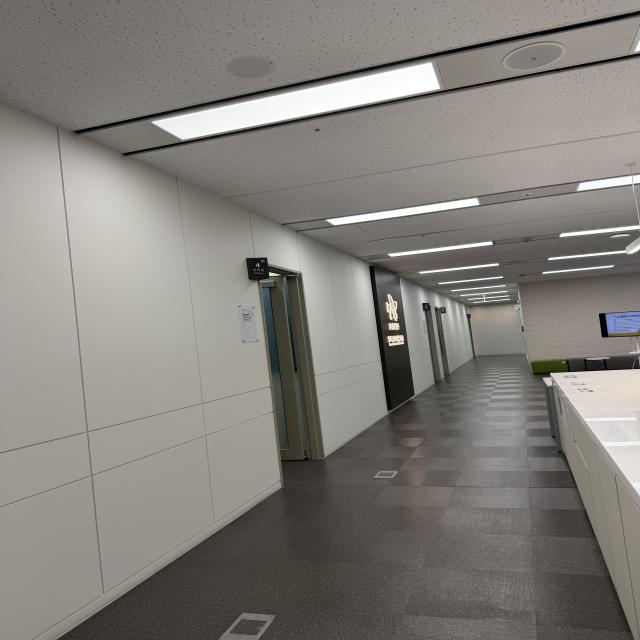room4: (250, 256, 268, 278)
